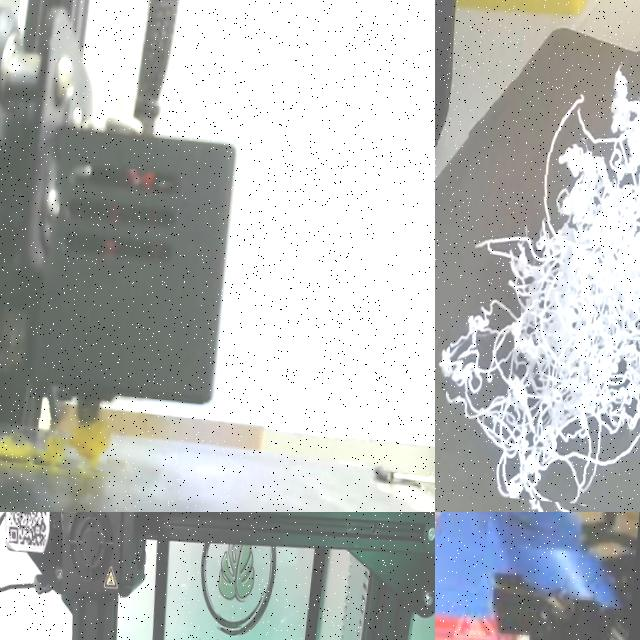spaghetti: (437, 62, 640, 512), (0, 409, 109, 470), (435, 512, 508, 594)
